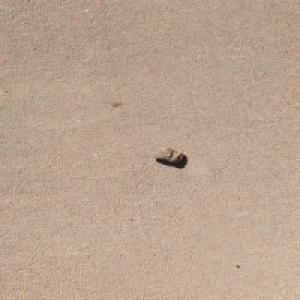Rock: (150, 146, 185, 162)
